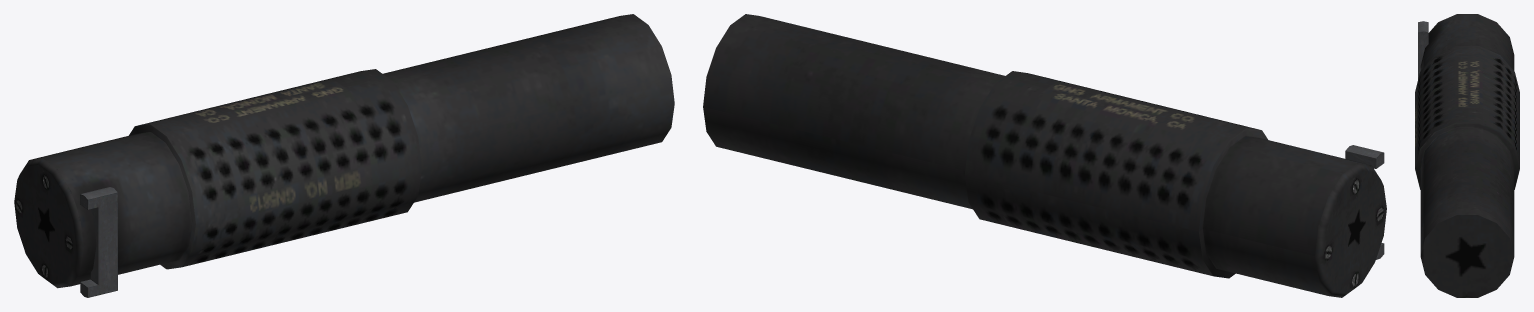
File: t6_attach_ar_silencer3_view_LOD0.obj
The picture shows the model from 3 angles, left to right: view 1: azimuth 30°, elevation 25°; view 2: azimuth 150°, elevation 25°; view 3: azimuth 270°, elevation 25°; orthographic projection. The views are drawn at different scales.
Visible parts, largest first — view 1: mtl_t6_attach_ar_silencer1; view 2: mtl_t6_attach_ar_silencer1; view 3: mtl_t6_attach_ar_silencer1.
Part boxes in pixels (x1,y1,x2,y2): mtl_t6_attach_ar_silencer1: (14, 14, 674, 297); mtl_t6_attach_ar_silencer1: (703, 14, 1386, 297); mtl_t6_attach_ar_silencer1: (1415, 14, 1519, 297).
Bounding box in the file's own units: 26.75 × 5.71 × 5.85.
